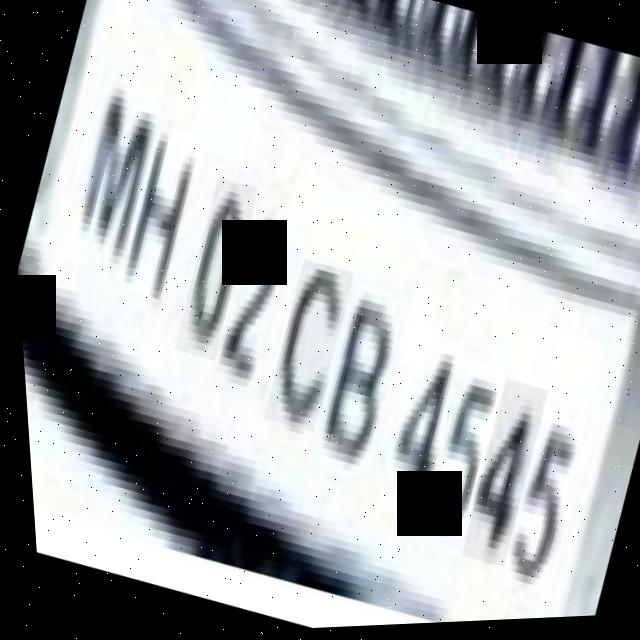0: (160, 177, 264, 364)
4: (359, 332, 470, 527), (444, 383, 552, 574)
5: (482, 408, 590, 601), (409, 363, 510, 545)
B: (298, 284, 413, 482)
C: (249, 261, 359, 439)
H: (108, 126, 213, 304)
M: (50, 74, 174, 277)
